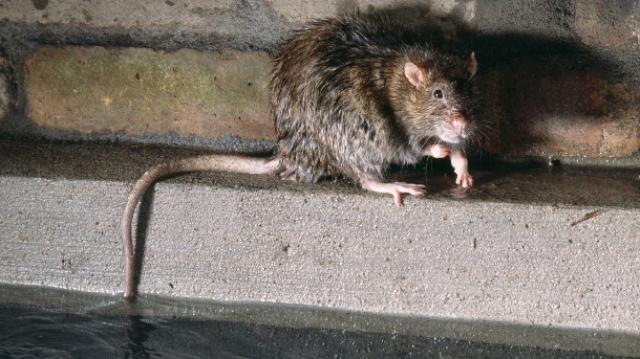rat: (186, 5, 496, 220)
